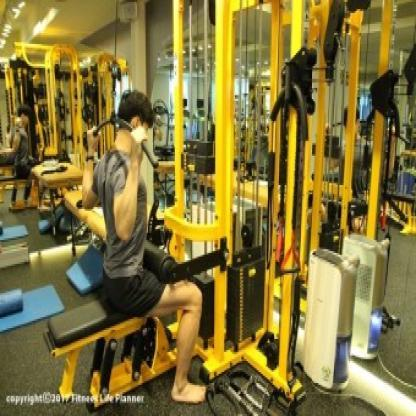Lat Pull Down: (40, 0, 300, 416)
